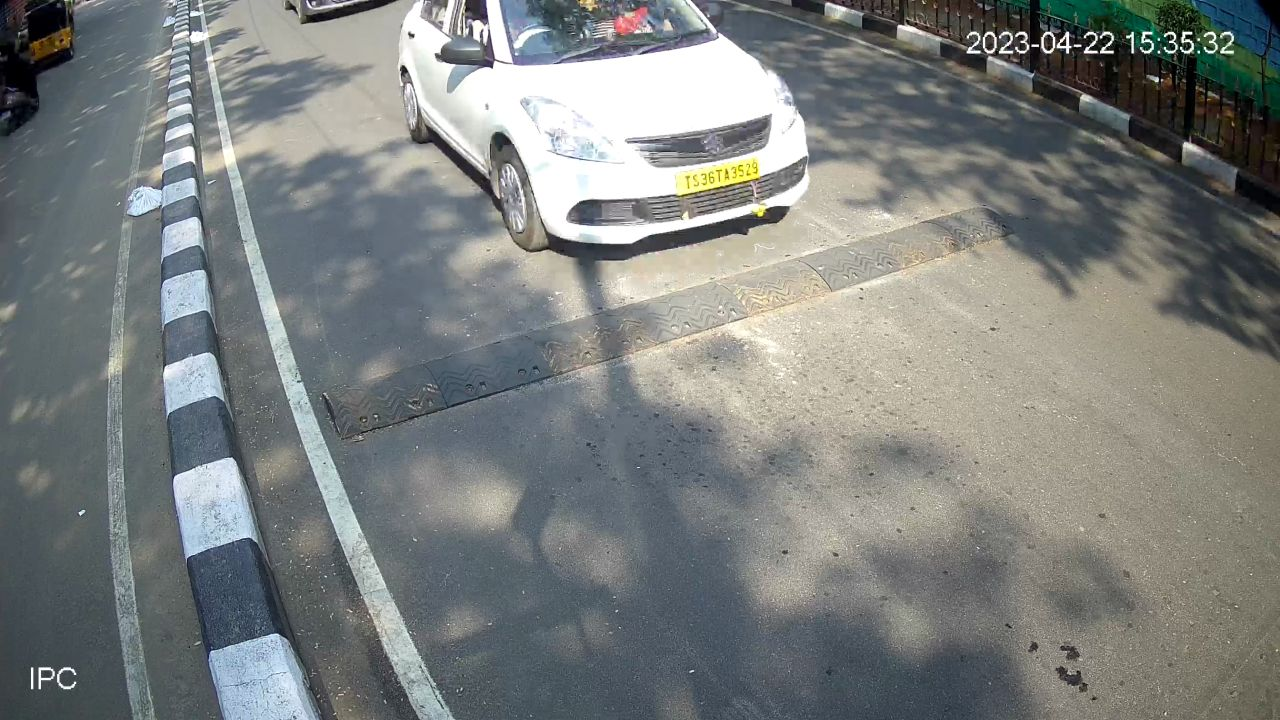license_plate: (674, 155, 760, 200)
